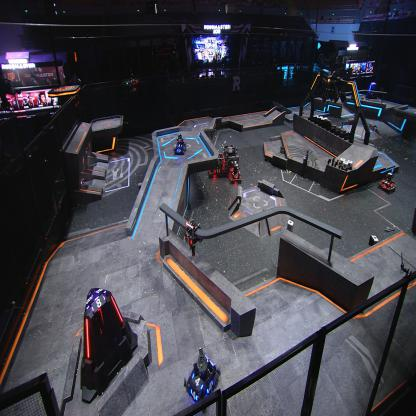car: (183, 347, 220, 413), (222, 145, 240, 176), (208, 151, 224, 177), (378, 171, 396, 194), (173, 132, 187, 156), (229, 164, 242, 184)
